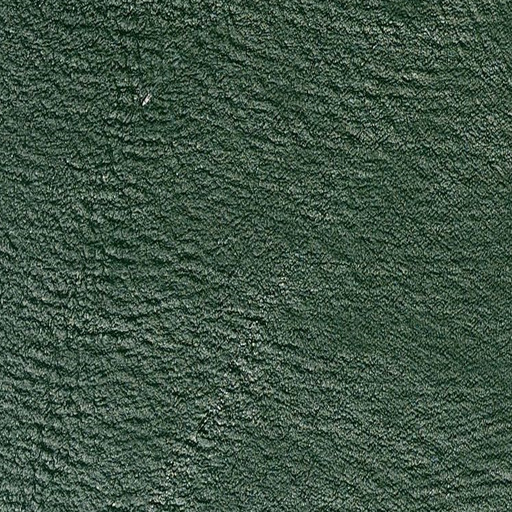ship: (139, 91, 154, 108)
